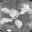people: (20, 3, 30, 14), (9, 9, 19, 19), (0, 17, 12, 25), (1, 7, 10, 15), (15, 19, 22, 28)
